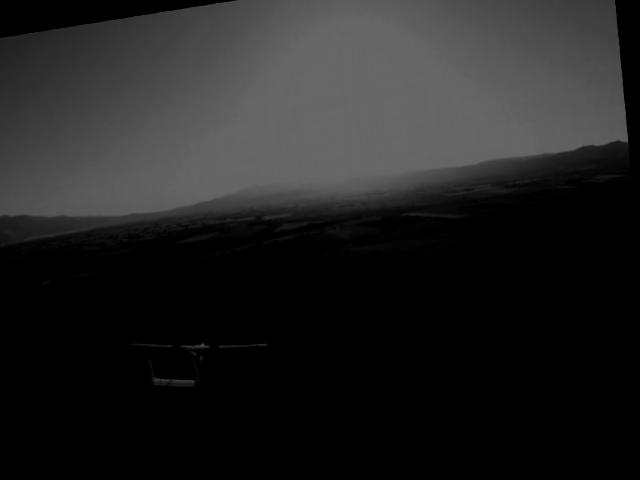hedef: (119, 317, 278, 403)
